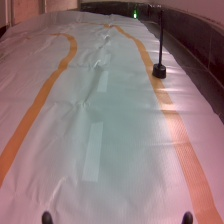green: (131, 5, 168, 81)
